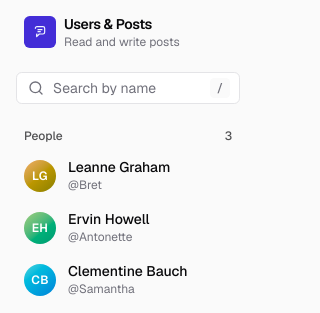
AppSidebar search › filters the list as the user types and keeps the term in the URL
The width and height of the screenshot is (320, 313).
Expected: the link "LG Leanne Graham @Bret" is shown, [24, 158, 170, 193]
Type "ervin" into the search field named "Search people by name".
click(128, 88); type("ervin")  # box [16, 72, 240, 104]
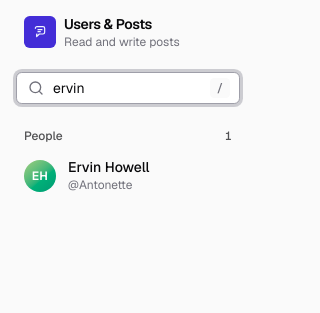
Result: the number of links "EH Ervin Howell @Antonette" is 1 at [24, 158, 150, 193]
